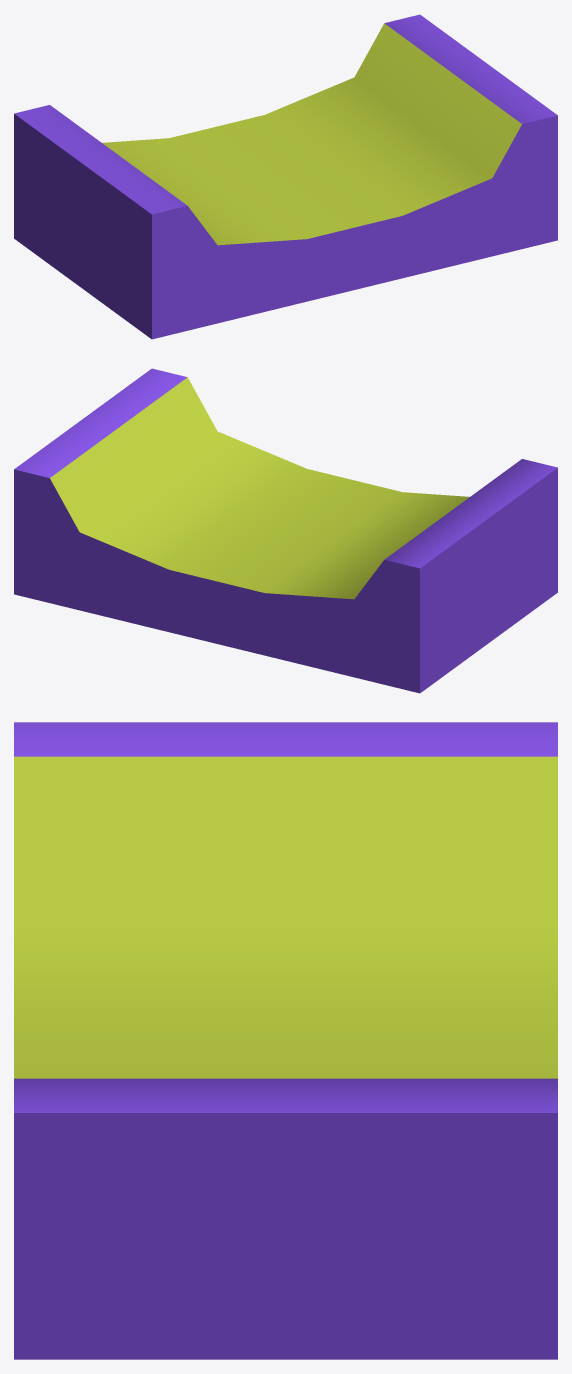
File: straight_wide-col.dae
3 renders of one model, top to bottom at view 1: azimuth 30°, elevation 25°; view 2: azimuth 150°, elevation 25°; view 3: azimuth 270°, elevation 25°, orthographic. The views are drawn at different scales.
Visible parts, largest first — view 1: straight_wide-col; view 2: straight_wide-col; view 3: straight_wide-col.
Boxes of the visible parts, x1,y1,x2,y2 form: straight_wide-col: (14, 14, 557, 339); straight_wide-col: (14, 368, 557, 693); straight_wide-col: (14, 722, 557, 1359).
Bounding box in the file's own units: 1.7 × 1 × 0.5.
